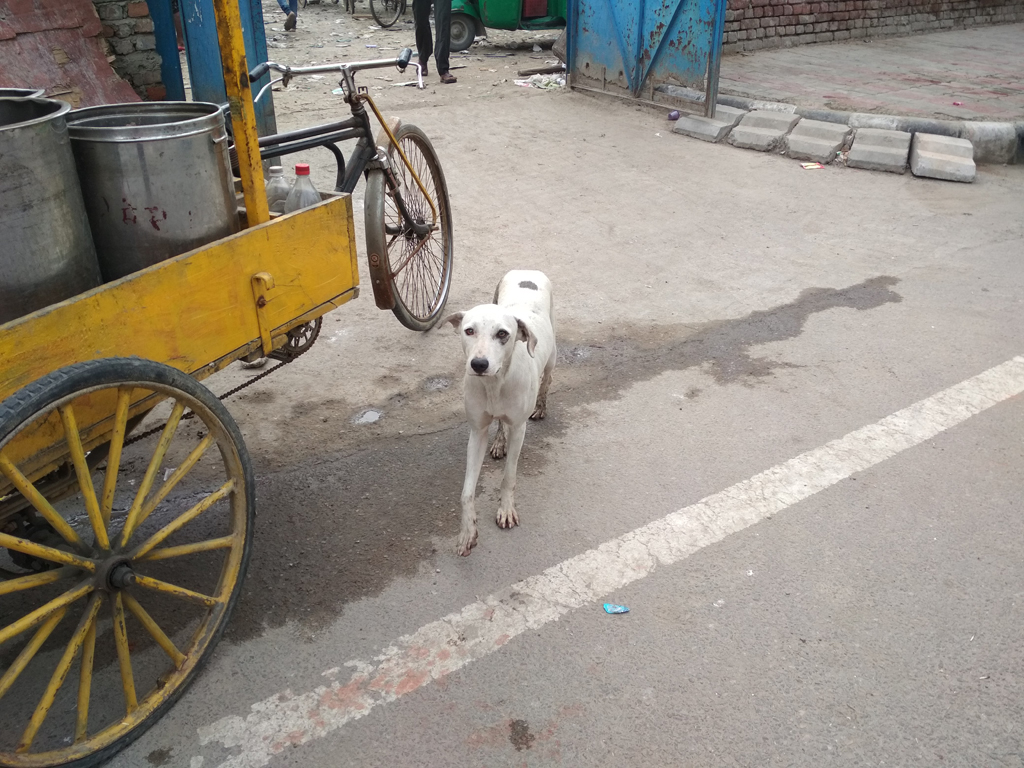dog: (436, 268, 556, 557)
